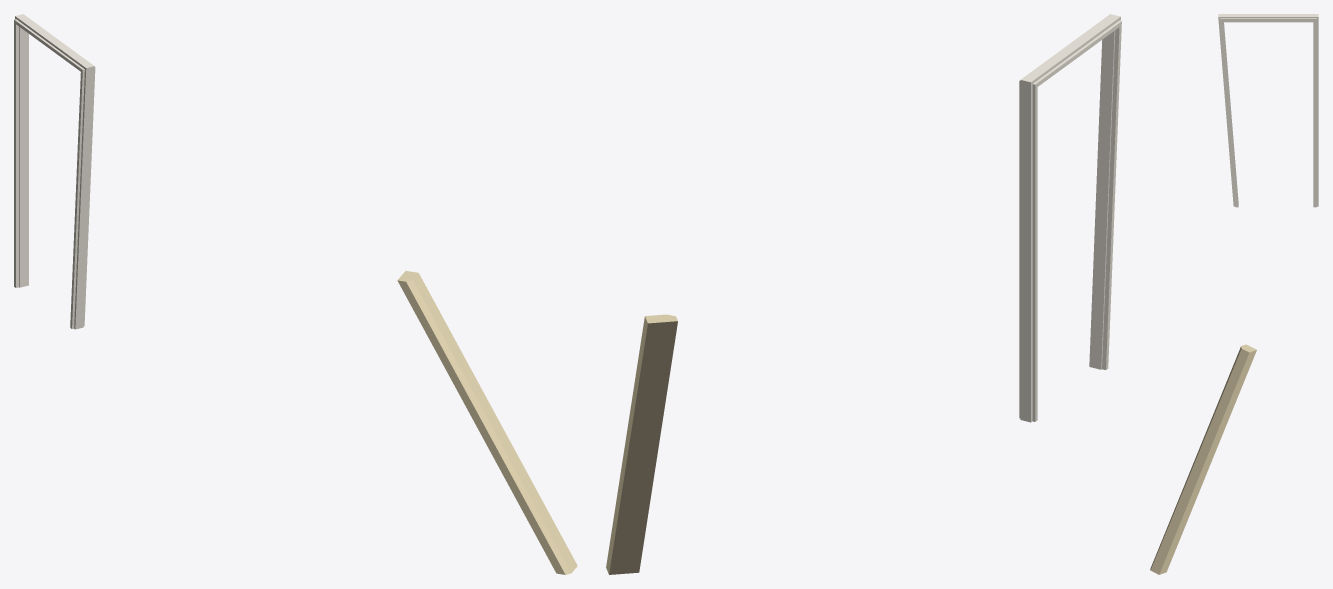
File: extrrra.fbx
3 views of the same model, side by side, from view 1: azimuth 30°, elevation 25°; view 2: azimuth 150°, elevation 25°; view 3: azimuth 270°, elevation 25° (orthographic). The views are drawn at different scales.
Parts seen in each view (by area): view 1: OG5_Int Doors, module_1; view 2: OG5_Int Doors, module_1; view 3: module_1, OG5_Int Doors.
Boxes of the visible parts, x1=… form: OG5_Int Doors: x1=14, y1=14, x2=95, y2=329; module_1: x1=397, y1=271, x2=577, y2=574; OG5_Int Doors: x1=1019, y1=14, x2=1121, y2=422; module_1: x1=606, y1=314, x2=677, y2=574; module_1: x1=1150, y1=344, x2=1256, y2=574; OG5_Int Doors: x1=1218, y1=14, x2=1318, y2=207.
Size of the model in its own units: 4.31 by 1.97 by 5.25.
